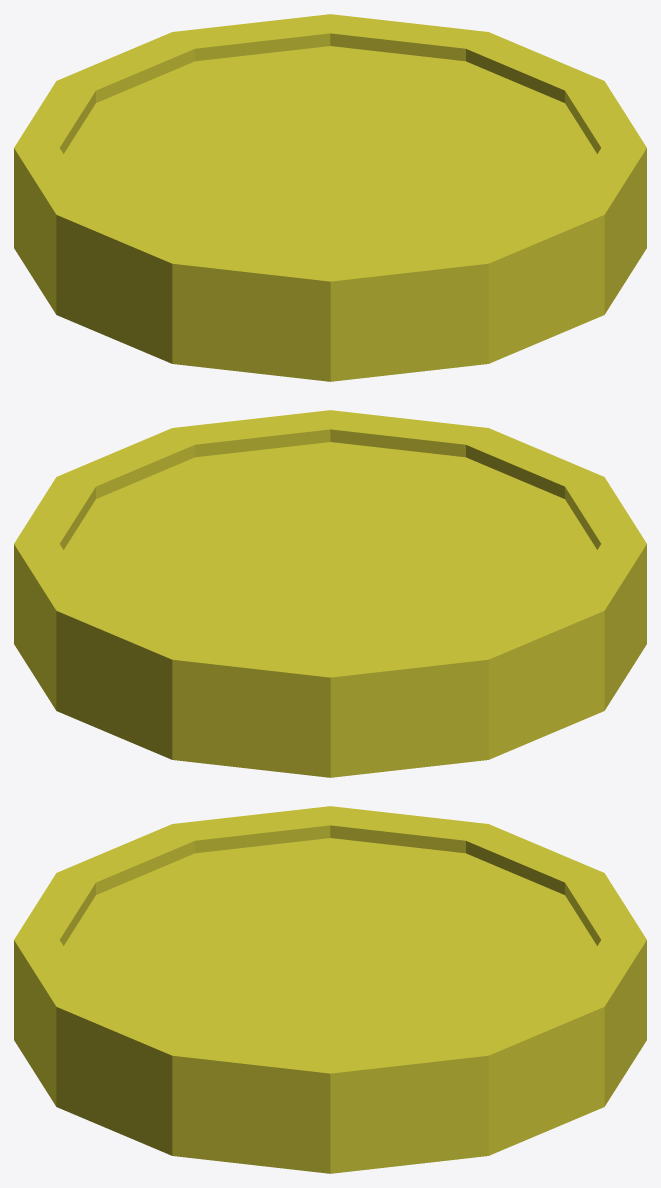
Rendered from Gold Coin.fbx.
3 renders of one model, top to bottom at view 1: azimuth 30°, elevation 25°; view 2: azimuth 150°, elevation 25°; view 3: azimuth 270°, elevation 25°, orthographic.
Visible parts, largest first — view 1: Cylinder; view 2: Cylinder; view 3: Cylinder.
Boxes of the visible parts, x1,y1,x2,y2 form: Cylinder: (14, 14, 646, 381); Cylinder: (14, 410, 646, 777); Cylinder: (14, 806, 646, 1173).
Size of the model in its own units: 200 by 34.95 by 200.
